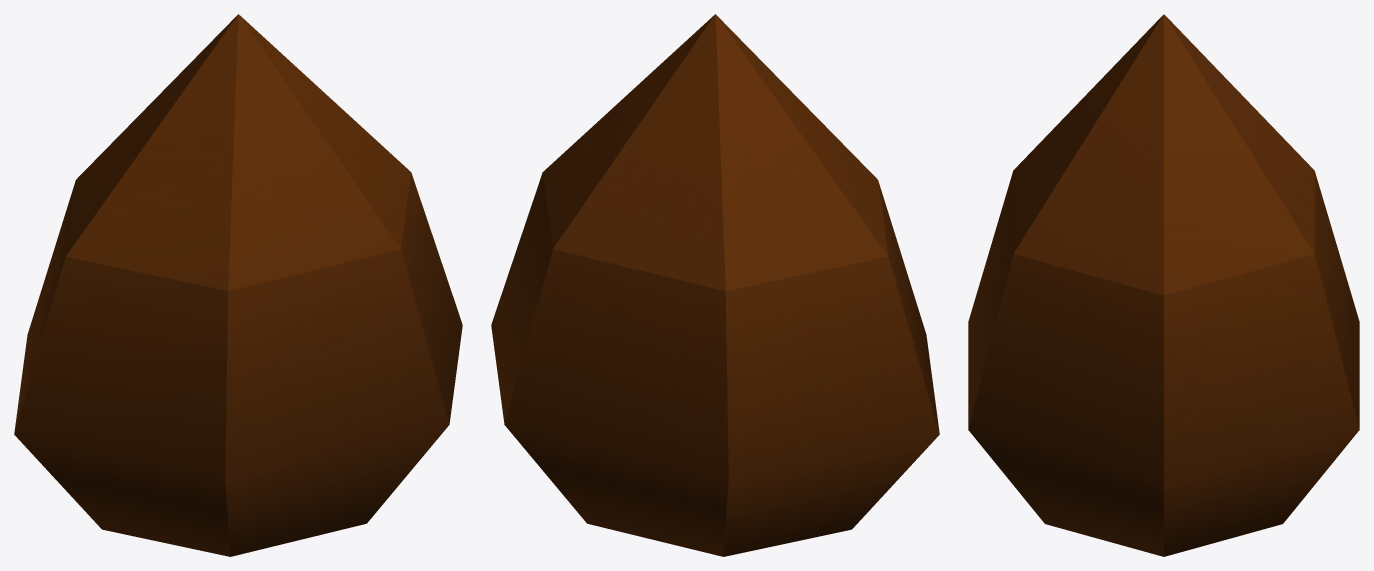
Rendered from PineCone.fbx.
3 views of the same model, side by side, from view 1: azimuth 30°, elevation 25°; view 2: azimuth 150°, elevation 25°; view 3: azimuth 270°, elevation 25° (orthographic).
Visible parts, largest first — view 1: PineCone; view 2: PineCone; view 3: PineCone.
Part boxes in pixels (bbox=[...]): PineCone: bbox=[14, 14, 462, 556]; PineCone: bbox=[491, 14, 939, 556]; PineCone: bbox=[968, 14, 1359, 556].
Size of the model in its own units: 0.2874 by 0.2953 by 0.2194.
